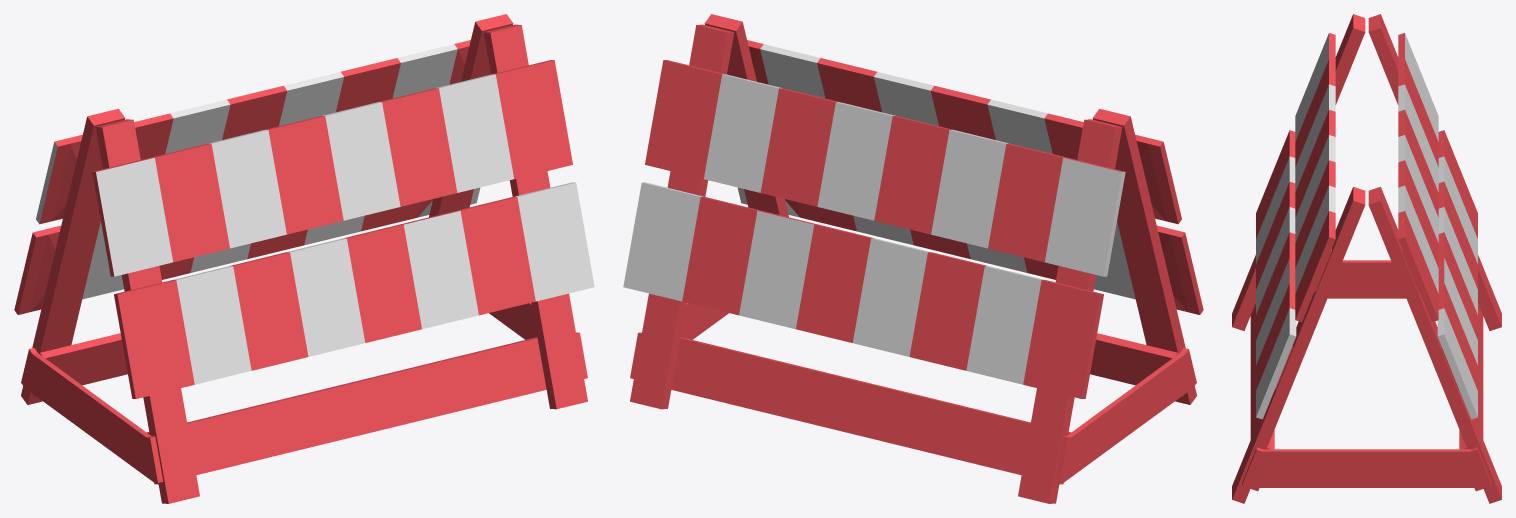
The model's file is Block.fbx.
The picture shows the model from 3 angles, left to right: view 1: azimuth 30°, elevation 25°; view 2: azimuth 150°, elevation 25°; view 3: azimuth 270°, elevation 25°; orthographic projection. The views are drawn at different scales.
Parts seen in each view (by area): view 1: Cube.001; view 2: Cube.001; view 3: Cube.001.
Boxes of the visible parts, x1=… form: Cube.001: x1=14, y1=14, x2=594, y2=503; Cube.001: x1=623, y1=14, x2=1203, y2=503; Cube.001: x1=1232, y1=14, x2=1501, y2=503.
Bounding box in the file's own units: 3.35 × 2.32 × 1.87.
